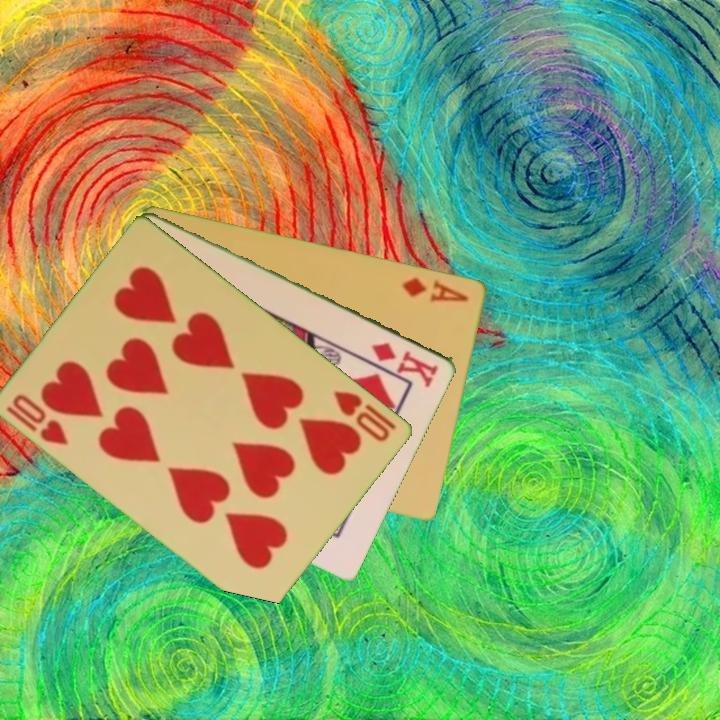10h: (3, 390, 73, 448), (330, 386, 394, 445)
Ad: (399, 273, 472, 305)
Kd: (368, 338, 442, 388)
